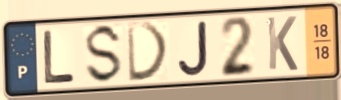2: (217, 14, 257, 80)
D: (124, 20, 172, 85)
J: (176, 19, 211, 79)
K: (264, 14, 300, 73)
L: (41, 28, 78, 86)
S: (83, 21, 125, 87)
